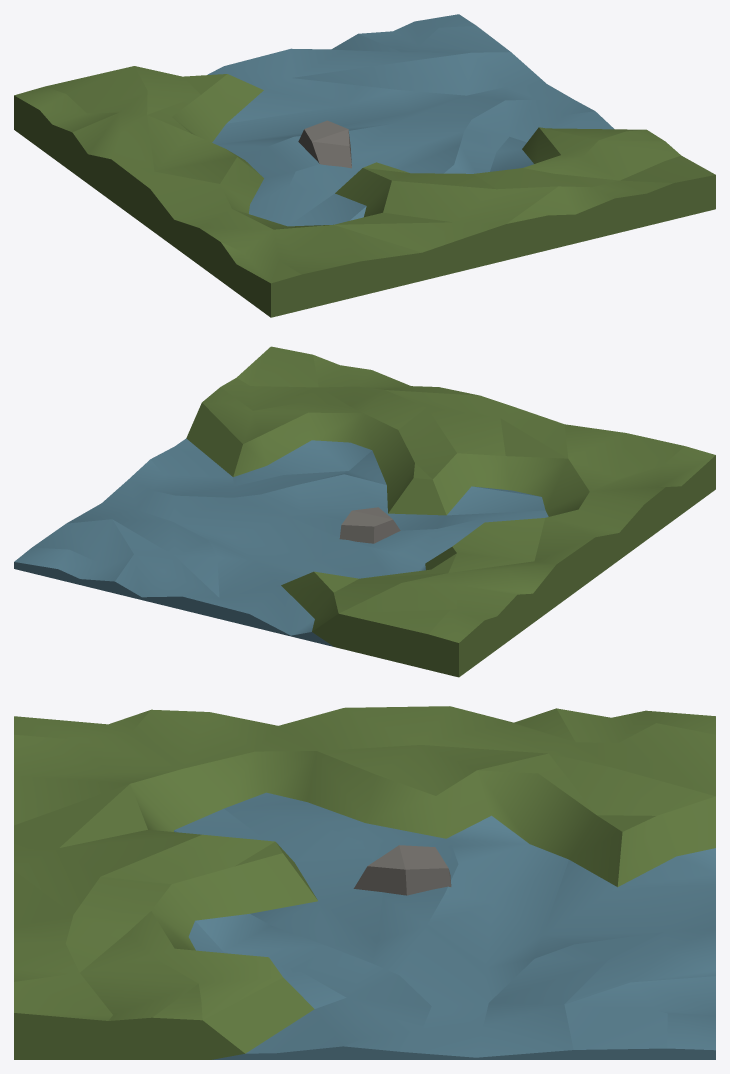
Rendered from Water_Corner_Internal_LB.glb.
3 renders of one model, top to bottom at view 1: azimuth 30°, elevation 25°; view 2: azimuth 150°, elevation 25°; view 3: azimuth 270°, elevation 25°, orthographic. The views are drawn at different scales.
Parts seen in each view (by area): view 1: Water_Corner_Internal_LB; view 2: Water_Corner_Internal_LB; view 3: Water_Corner_Internal_LB.
Boxes of the visible parts, x1=… form: Water_Corner_Internal_LB: x1=14, y1=14, x2=715, y2=317; Water_Corner_Internal_LB: x1=14, y1=346, x2=715, y2=677; Water_Corner_Internal_LB: x1=14, y1=706, x2=715, y2=1059.
Size of the model in its own units: 1.47 by 0.1413 by 1.47.
